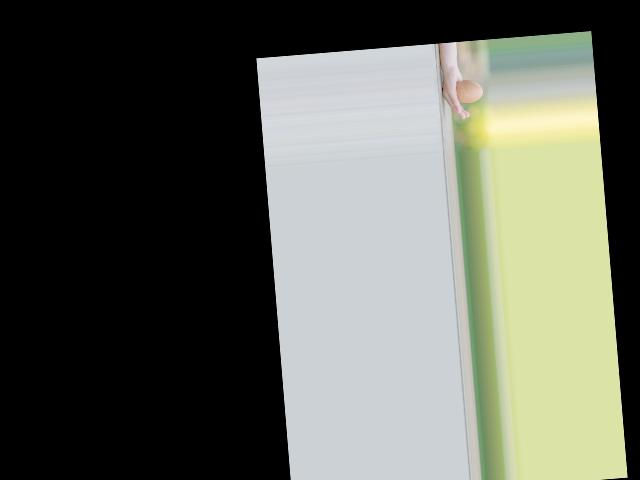egg: (455, 77, 483, 103)
